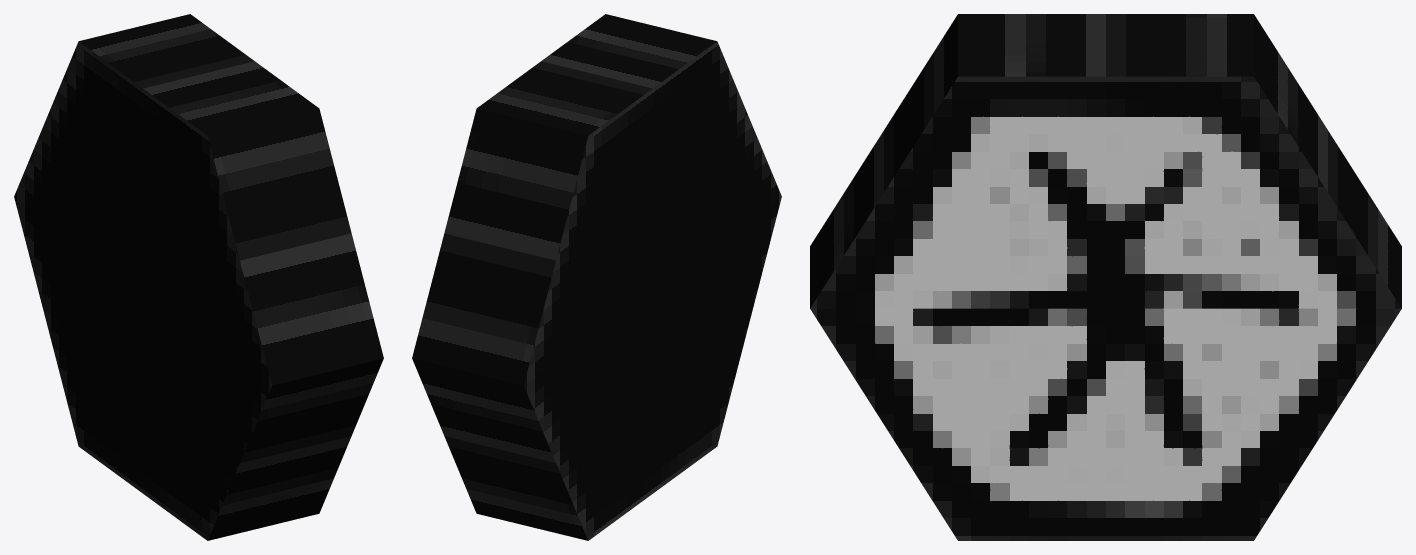
Rendered from test_car_wheel.obj.
3 views of the same model, side by side, from view 1: azimuth 30°, elevation 25°; view 2: azimuth 150°, elevation 25°; view 3: azimuth 270°, elevation 25° (orthographic). The views are drawn at different scales.
Parts seen in each view (by area): view 1: back_left; view 2: back_left; view 3: back_left.
Part boxes in pixels (x1,y1,x2,y2): back_left: (14, 14, 383, 540); back_left: (412, 14, 781, 540); back_left: (810, 14, 1401, 540).
Bounding box in the file's own units: 0.3 × 1.04 × 1.2.
